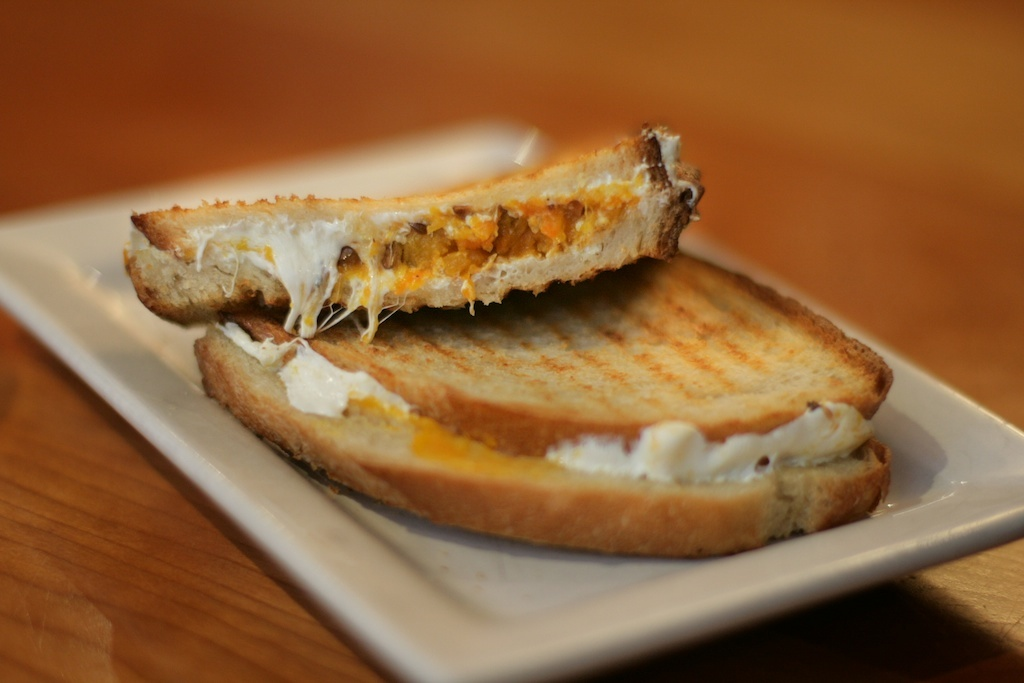sandwich: (119, 124, 895, 556)
